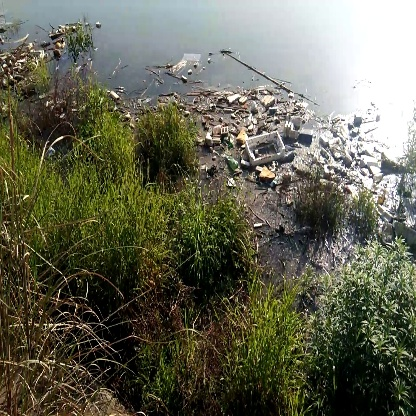plastic-garbage: (243, 127, 287, 167)
